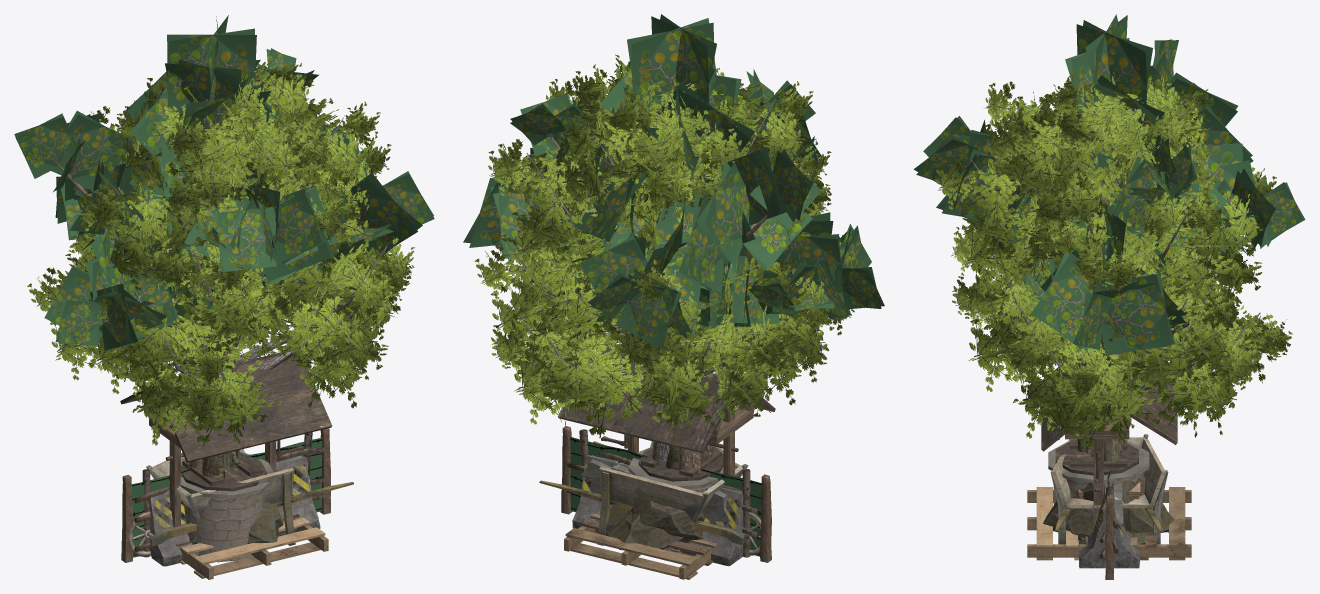
The model's file is daoju.fbx.
3 views of the same model, side by side, from view 1: azimuth 30°, elevation 25°; view 2: azimuth 150°, elevation 25°; view 3: azimuth 270°, elevation 25° (orthographic). The views are drawn at different scales.
Parts seen in each view (by area): view 1: tree6, PolyBranch06, pCube18, daoju, pCube27, Pushcart:wheels1, Plane.018, Stone_08, shu3; view 2: tree6, PolyBranch06, pCube18, Pushcart:wheels1, daoju, pCube27, Plane.018, Stone_04, Stone_08, Stone_WallFragment; view 3: tree6, PolyBranch06, pCube18, pCube27, Pushcart:wheels1, daoju, Stone_04, Stone_08, Plane.018.
Part boxes in pixels (x1=…): tree6: x1=27, y1=61, x2=414, y2=446; PolyBranch06: x1=14, y1=15, x2=434, y2=470; pCube18: x1=120, y1=352, x2=332, y2=562; daoju: x1=134, y1=432, x2=325, y2=566; pCube27: x1=176, y1=514, x2=328, y2=579; Pushcart:wheels1: x1=128, y1=449, x2=353, y2=556; Plane.018: x1=121, y1=428, x2=330, y2=562; Stone_08: x1=189, y1=465, x2=278, y2=544; shu3: x1=202, y1=294, x2=231, y2=478; tree6: x1=474, y1=54, x2=855, y2=466; PolyBranch06: x1=463, y1=14, x2=884, y2=472; pCube18: x1=558, y1=347, x2=775, y2=552; Pushcart:wheels1: x1=539, y1=441, x2=761, y2=555; daoju: x1=567, y1=429, x2=758, y2=566; pCube27: x1=564, y1=513, x2=716, y2=579; Plane.018: x1=561, y1=426, x2=771, y2=562; Stone_04: x1=605, y1=500, x2=702, y2=549; Stone_08: x1=605, y1=512, x2=704, y2=550; Stone_WallFragment: x1=581, y1=459, x2=729, y2=521; tree6: x1=935, y1=71, x2=1292, y2=453; PolyBranch06: x1=914, y1=14, x2=1305, y2=449; pCube18: x1=1041, y1=357, x2=1177, y2=526; pCube27: x1=1027, y1=487, x2=1191, y2=560; Pushcart:wheels1: x1=1050, y1=434, x2=1168, y2=544; daoju: x1=1079, y1=481, x2=1139, y2=568; Stone_04: x1=1066, y1=475, x2=1153, y2=544; Stone_08: x1=1043, y1=482, x2=1174, y2=544; Plane.018: x1=1105, y1=468, x2=1113, y2=579.
Size of what is drawn, in the model's own units: 6.69 by 8.59 by 6.07.
Materials: 18 (18 with a texture image).
